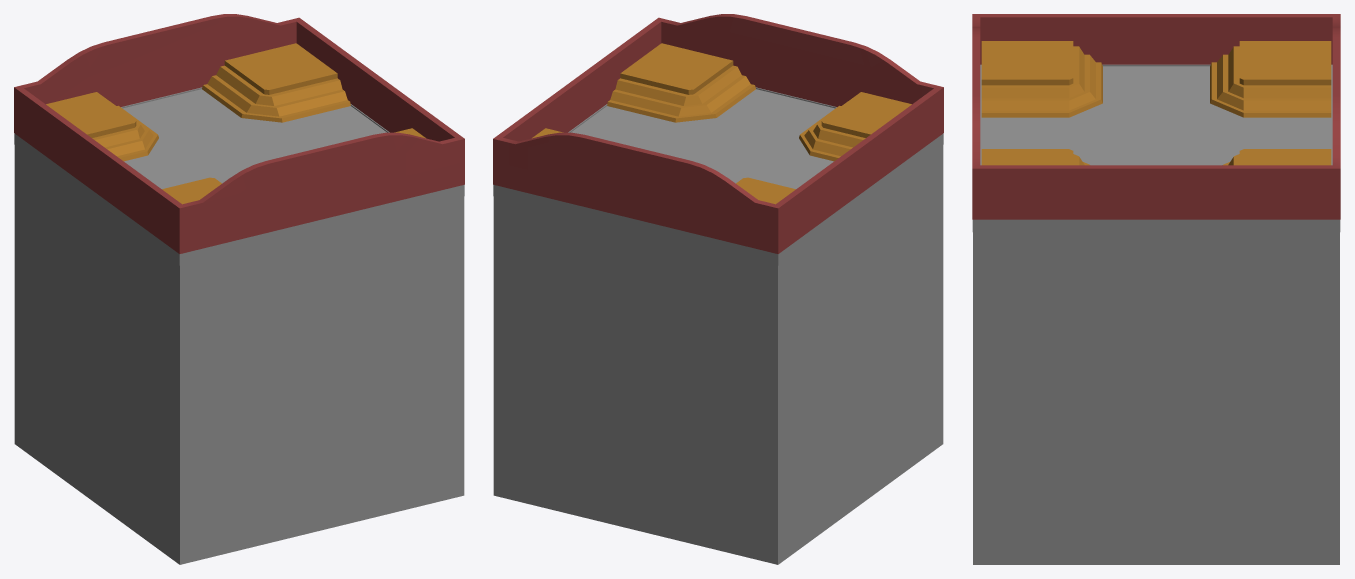
The model's file is weiqiang8.fbx.
3 renders of one model, left to right at view 1: azimuth 30°, elevation 25°; view 2: azimuth 150°, elevation 25°; view 3: azimuth 270°, elevation 25°, orthographic. The views are drawn at different scales.
Parts seen in each view (by area): view 1: 图形007, Environment_11_walls_wall_78, 图形008, pCube310; view 2: 图形007, Environment_11_walls_wall_78, 图形008, pCube310; view 3: 图形007, Environment_11_walls_wall_78, 图形008, pCube310.
Boxes of the visible parts, x1,y1,x2,y2 form: 图形007: [14, 145, 464, 564]; Environment_11_walls_wall_78: [14, 14, 464, 253]; 图形008: [14, 89, 464, 265]; pCube310: [46, 43, 425, 204]; 图形007: [493, 145, 943, 564]; Environment_11_walls_wall_78: [493, 14, 943, 253]; 图形008: [493, 89, 943, 265]; pCube310: [532, 43, 911, 204]; 图形007: [973, 232, 1339, 564]; Environment_11_walls_wall_78: [972, 14, 1340, 219]; 图形008: [972, 66, 1340, 232]; pCube310: [981, 41, 1331, 165].
Bounding box in the file's own units: 3651 × 4644 × 3671.
